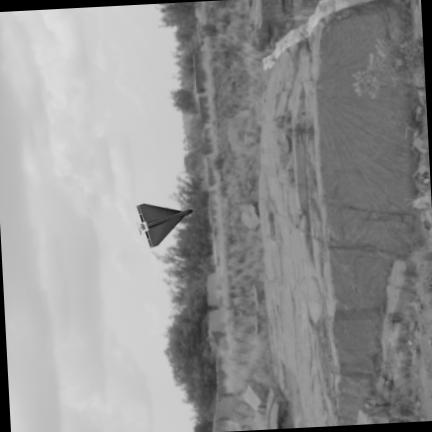Shahed: (136, 203, 192, 246)
